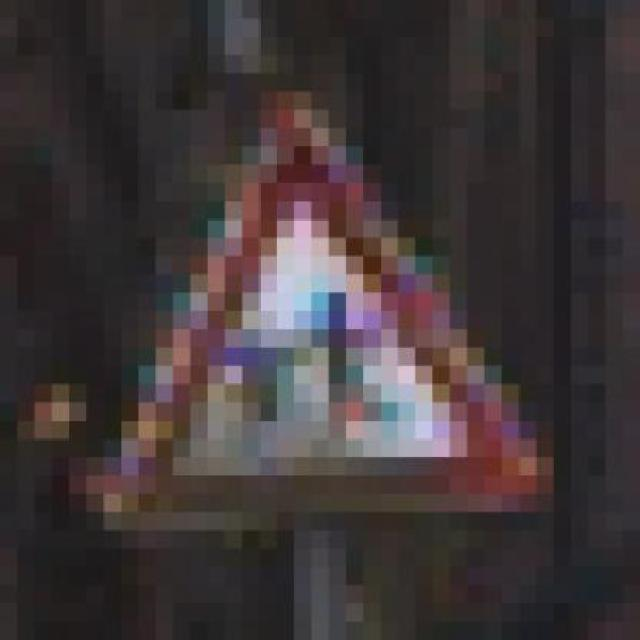Beware of children: (69, 91, 571, 548)
